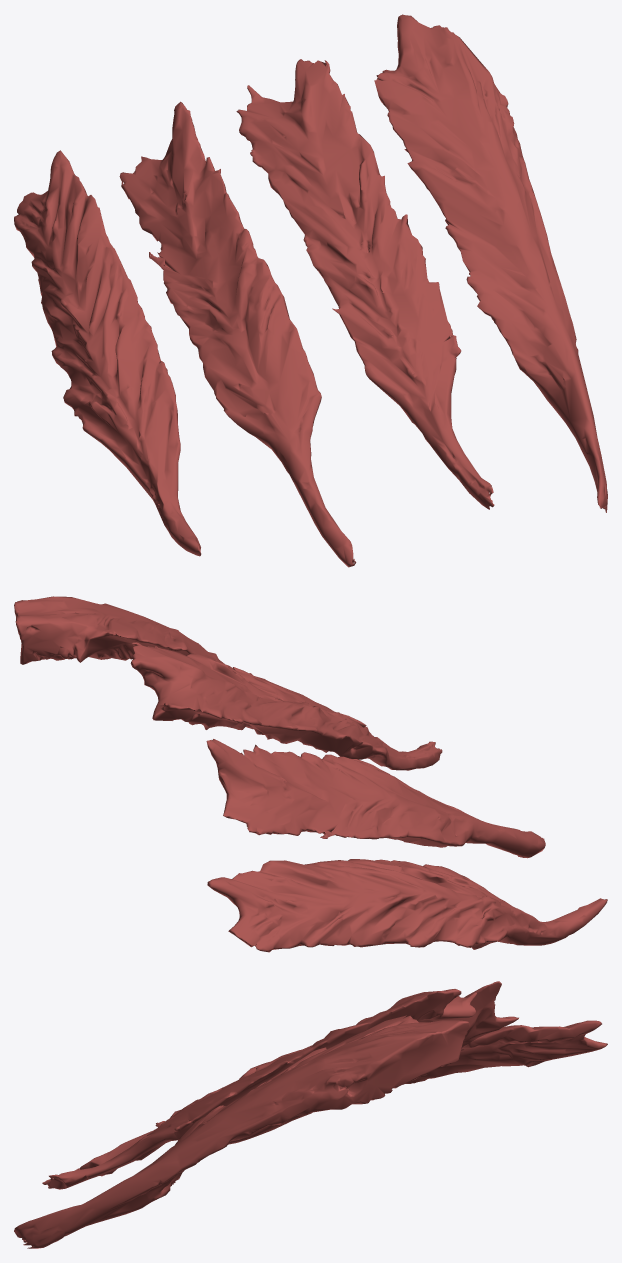
File: FMA74140.glb
The picture shows the model from 3 angles, top to bottom: view 1: azimuth 30°, elevation 25°; view 2: azimuth 150°, elevation 25°; view 3: azimuth 270°, elevation 25°; orthographic projection. The views are drawn at different scales.
Visible parts, largest first — view 1: FMA74140; view 2: FMA74140; view 3: FMA74140.
Boxes of the visible parts, x1=… form: FMA74140: x1=14, y1=14, x2=607, y2=567; FMA74140: x1=14, y1=596, x2=607, y2=952; FMA74140: x1=14, y1=981, x2=607, y2=1248.
Bounding box in the file's own units: 0.05 × 0.036 × 0.07.
